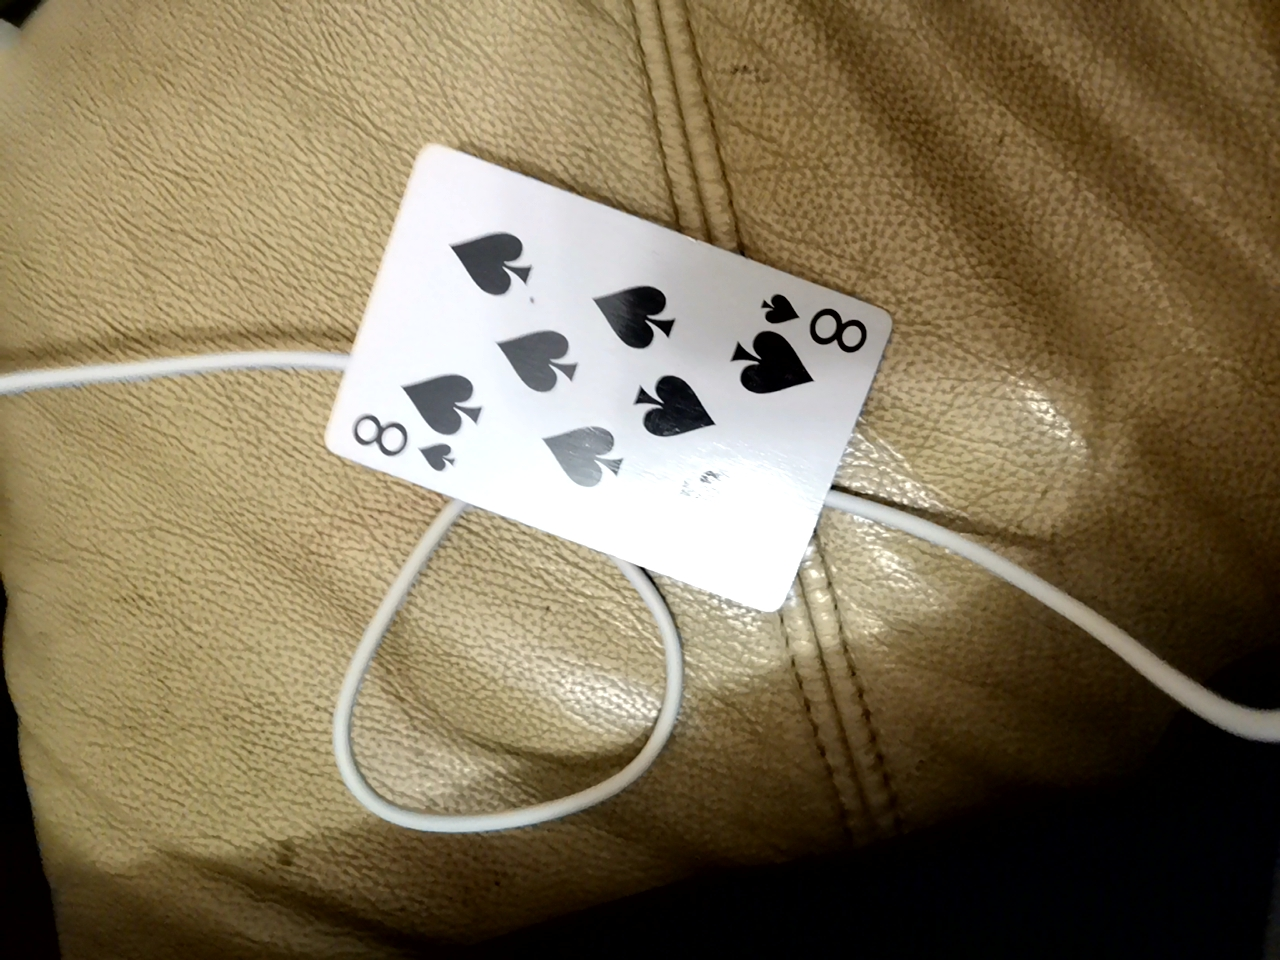ht 8: (333, 137, 906, 606)
